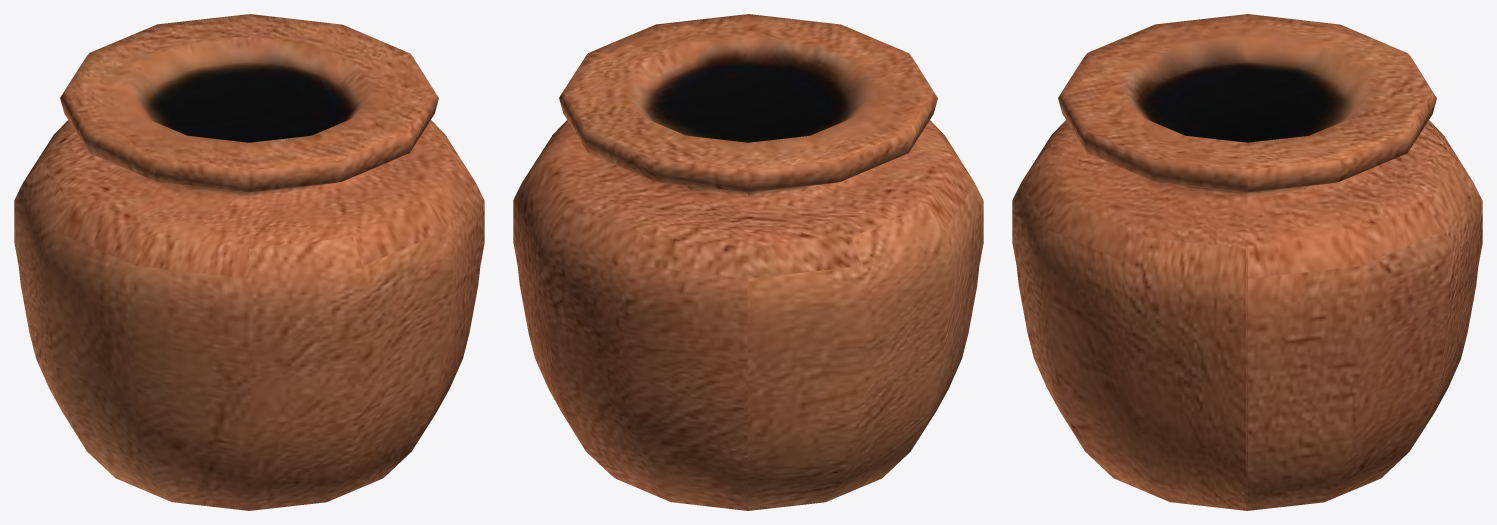
Rendered from vaso2.fbx.
3 views of the same model, side by side, from view 1: azimuth 30°, elevation 25°; view 2: azimuth 150°, elevation 25°; view 3: azimuth 270°, elevation 25° (orthographic).
Visible parts, largest first — view 1: vaso2; view 2: vaso2; view 3: vaso2.
Part boxes in pixels (x1,y1,x2,y2): vaso2: [14, 14, 484, 510]; vaso2: [513, 14, 983, 510]; vaso2: [1012, 14, 1482, 510].
Size of the model in its own units: 11.37 by 10.06 by 11.37.
